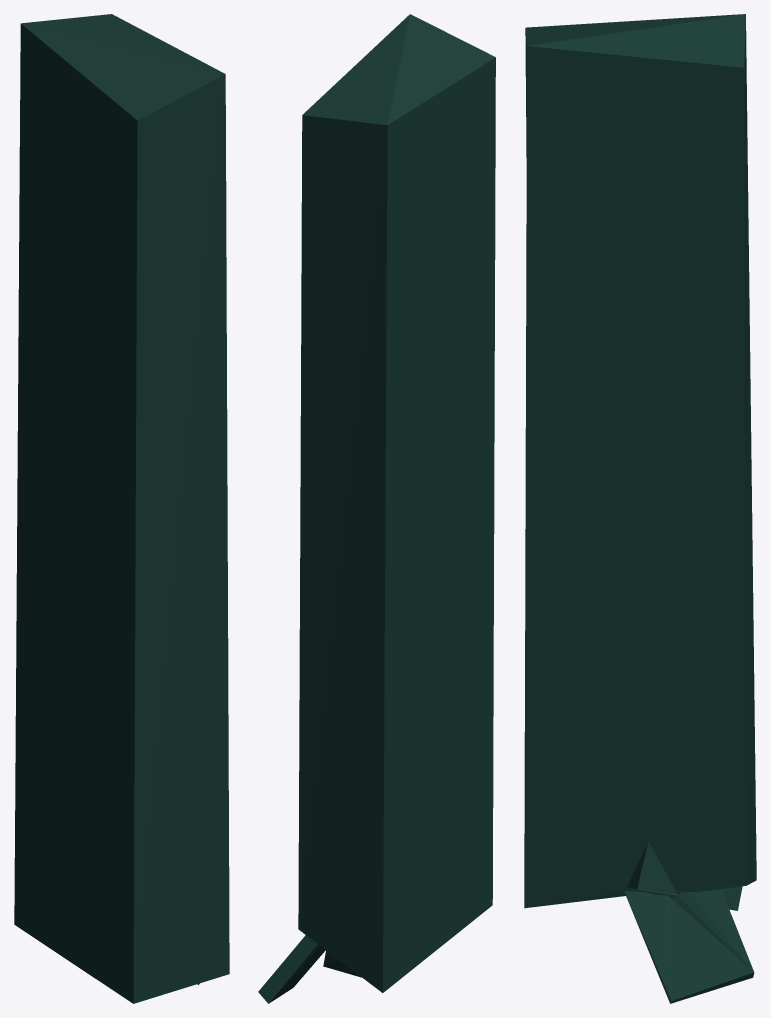
3 views of the same model, side by side, from view 1: azimuth 30°, elevation 25°; view 2: azimuth 150°, elevation 25°; view 3: azimuth 270°, elevation 25° (orthographic). The views are drawn at different scales.
Parts seen in each view (by area): view 1: 202_Cube.838; view 2: 202_Cube.838; view 3: 202_Cube.838.
Boxes of the visible parts, x1,y1,x2,y2 form: 202_Cube.838: (14, 14, 229, 1003); 202_Cube.838: (258, 14, 495, 1003); 202_Cube.838: (524, 14, 756, 1003).
Bounding box in the file's own units: 2.11 × 13.15 × 2.96.
